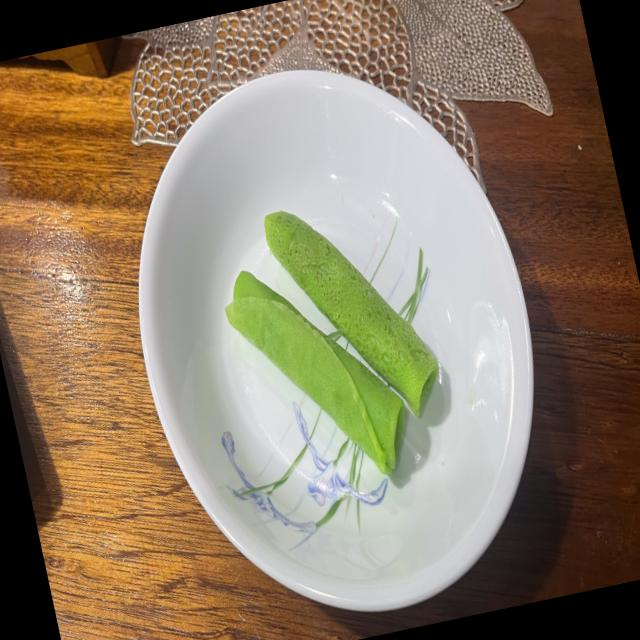Kuih-Ketayap: (264, 210, 438, 415), (310, 322, 404, 471), (233, 270, 309, 322)
